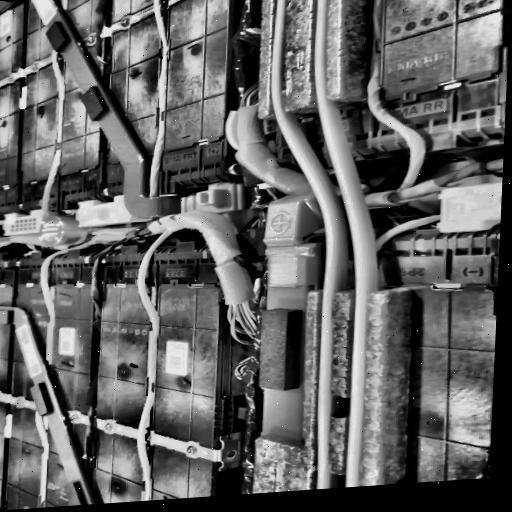busbar: (30, 0, 184, 218), (0, 305, 97, 506)
high_volt_cable: (0, 0, 257, 508), (261, 0, 377, 490)
